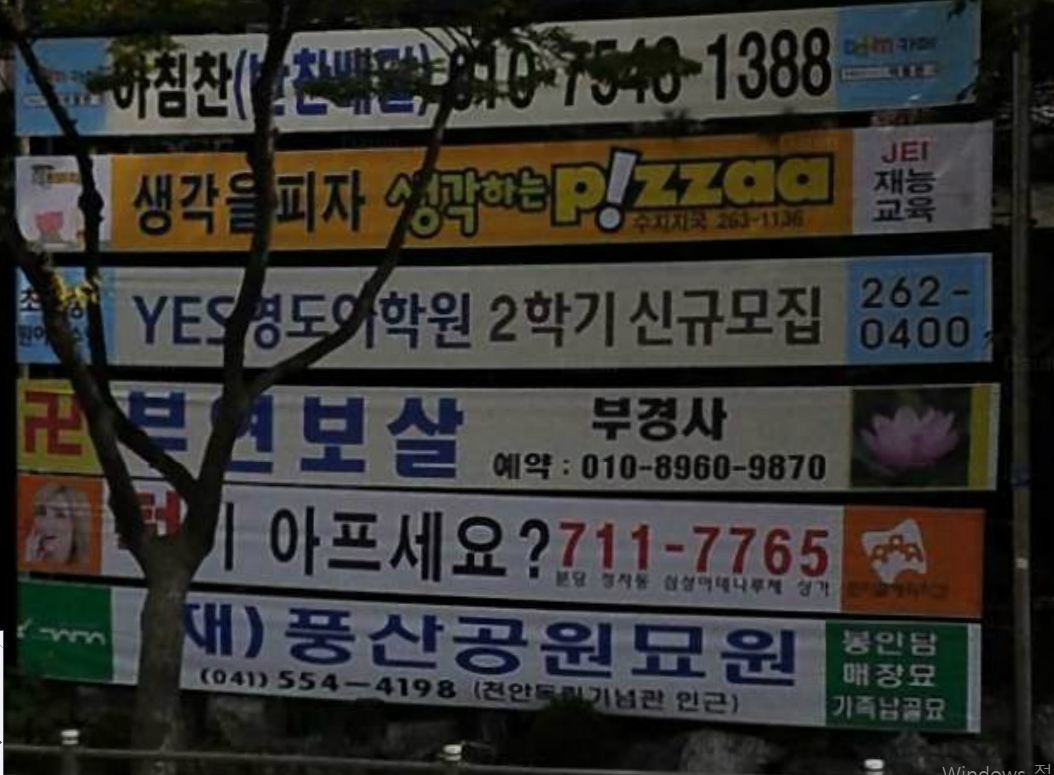banner: (9, 115, 1009, 279), (13, 470, 1000, 628), (12, 575, 988, 731), (7, 3, 985, 150), (5, 373, 1006, 493), (1, 261, 1019, 371)
